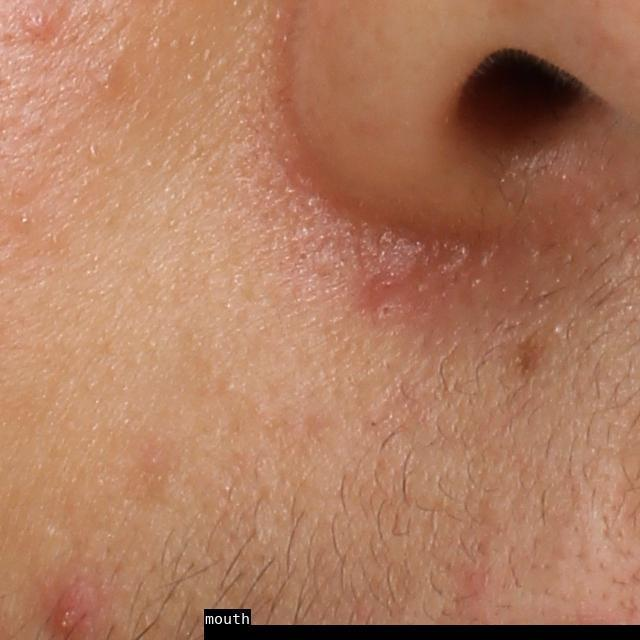comedo: (93, 63, 123, 98), (220, 378, 240, 396)
papule: (15, 3, 68, 48)
